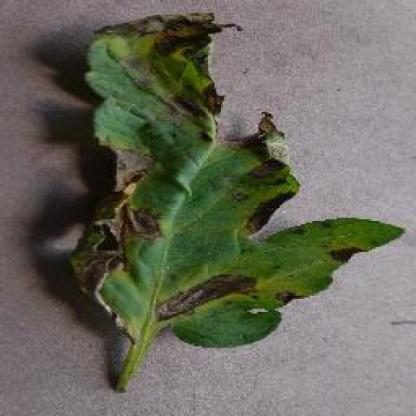Tomato_Blight: (70, 10, 408, 348)
